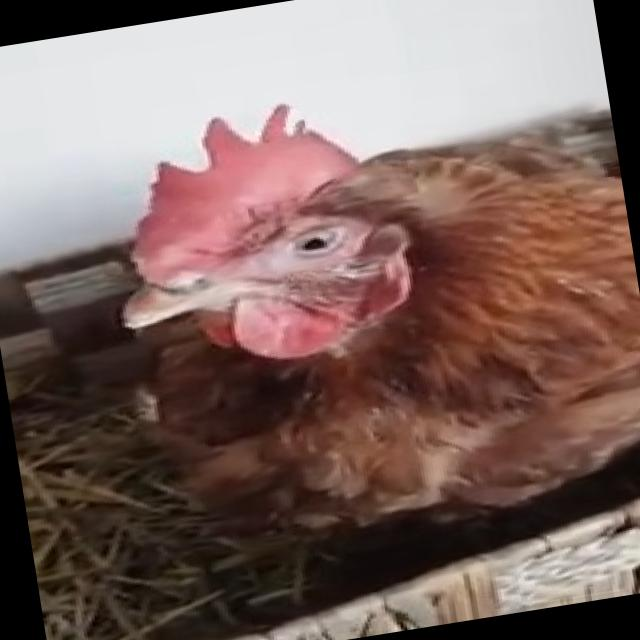Breathing: (37, 62, 640, 592)
